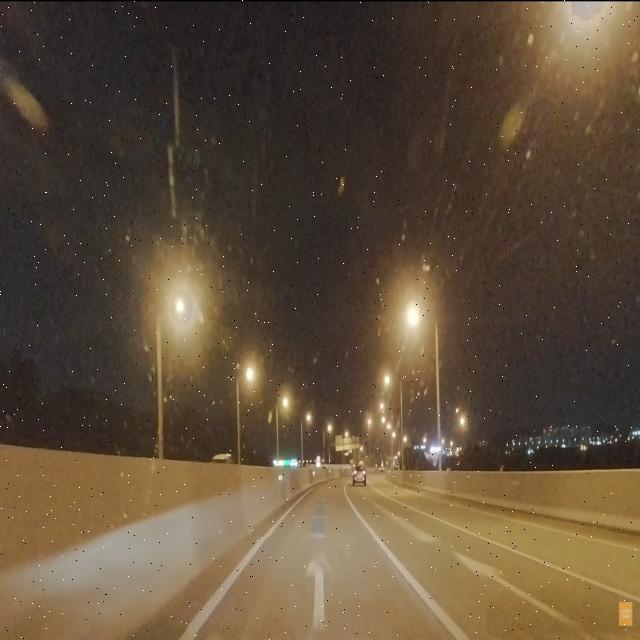forward: (188, 538, 458, 634)
